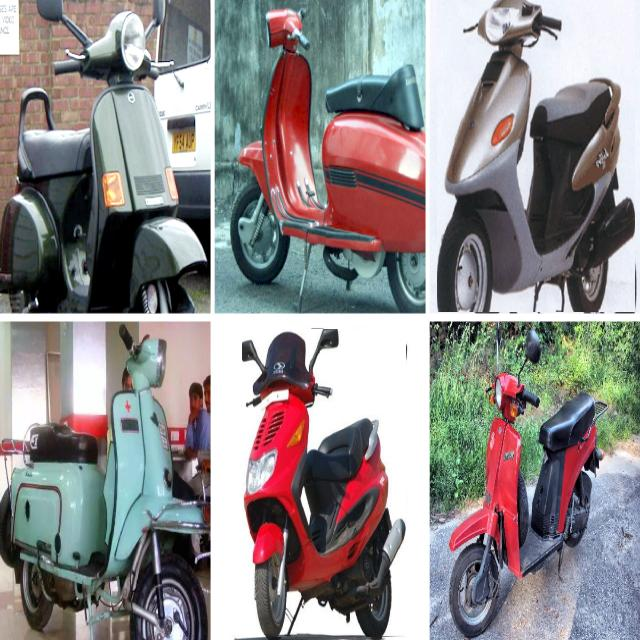motorcycle: (0, 325, 210, 640), (0, 0, 206, 313), (438, 0, 635, 312), (231, 10, 425, 311), (242, 329, 406, 637), (449, 330, 606, 638)
